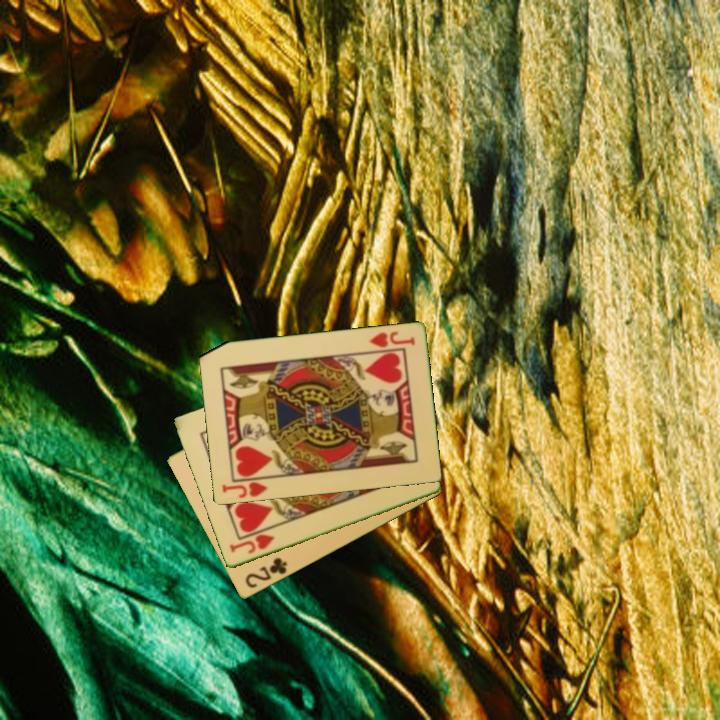2c: (241, 554, 290, 592)
Jh: (218, 474, 274, 501), (226, 531, 277, 557), (366, 328, 417, 351)
